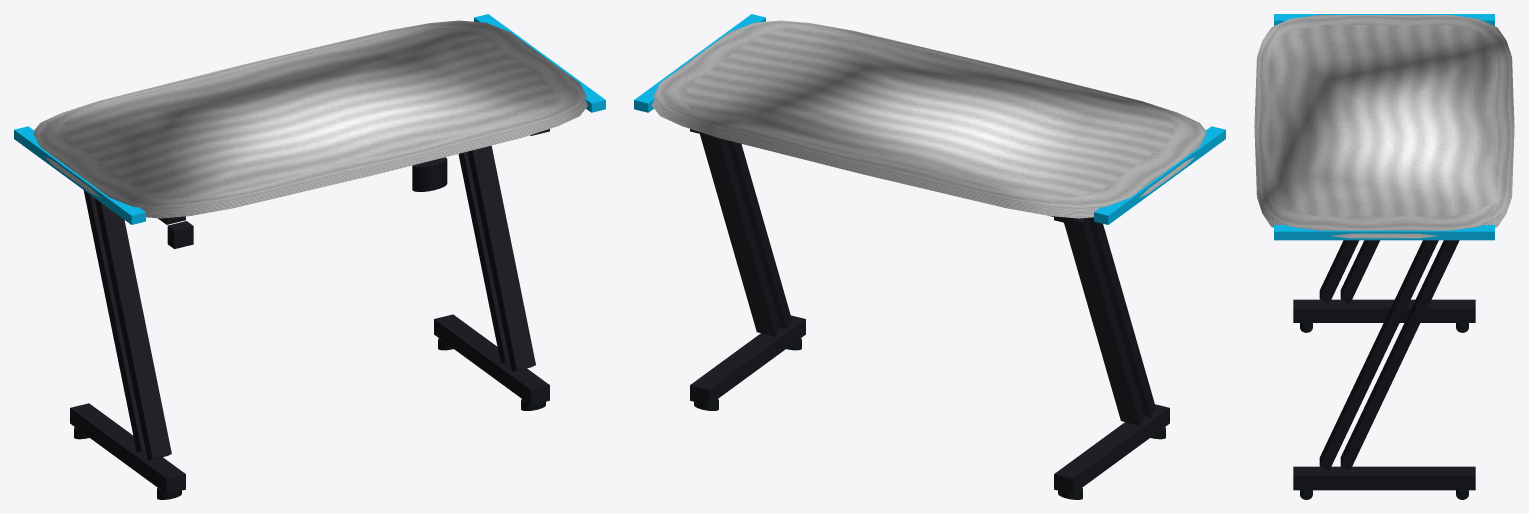
3 views of the same model, side by side, from view 1: azimuth 30°, elevation 25°; view 2: azimuth 150°, elevation 25°; view 3: azimuth 270°, elevation 25° (orthographic). The views are drawn at different scales.
Parts seen in each view (by area): view 1: 1 tabletop, 7 leg_strut_left_1, 9 leg_strut_right_1, 11 foot_bar_left, 12 foot_bar_right, 8 leg_strut_left_2, 10 leg_strut_right_2, 2 led_strip_left, 17 cup_holder, 3 led_strip_right, 18 headphone_hook; view 2: 1 tabletop, 8 leg_strut_left_2, 10 leg_strut_right_2, 12 foot_bar_right, 11 foot_bar_left, 7 leg_strut_left_1, 9 leg_strut_right_1, 2 led_strip_left, 3 led_strip_right; view 3: 1 tabletop, 12 foot_bar_right, 9 leg_strut_right_1, 10 leg_strut_right_2, 11 foot_bar_left, 3 led_strip_right, 7 leg_strut_left_1, 8 leg_strut_left_2, 2 led_strip_left.
Part boxes in pixels (left/top/right/bottom): 1 tabletop: left=33, top=20, right=587, bottom=218; 7 leg_strut_left_1: left=95, top=198, right=171, bottom=460; 9 leg_strut_right_1: left=467, top=145, right=535, bottom=371; 11 foot_bar_left: left=70, top=403, right=185, bottom=493; 12 foot_bar_right: left=434, top=314, right=549, bottom=405; 8 leg_strut_left_2: left=83, top=190, right=145, bottom=452; 10 leg_strut_right_2: left=458, top=152, right=509, bottom=363; 2 led_strip_left: left=14, top=126, right=145, bottom=224; 17 cup_holder: left=412, top=157, right=447, bottom=191; 3 led_strip_right: left=474, top=14, right=605, bottom=112; 18 headphone_hook: left=167, top=221, right=193, bottom=248; 1 tabletop: left=652, top=20, right=1206, bottom=218; 8 leg_strut_left_2: left=1064, top=218, right=1144, bottom=425; 10 leg_strut_right_2: left=700, top=134, right=780, bottom=336; 12 foot_bar_right: left=690, top=315, right=805, bottom=405; 11 foot_bar_left: left=1054, top=404, right=1169, bottom=493; 7 leg_strut_left_1: left=1088, top=217, right=1155, bottom=417; 9 leg_strut_right_1: left=727, top=140, right=791, bottom=328; 2 led_strip_left: left=1094, top=126, right=1225, bottom=224; 3 led_strip_right: left=634, top=14, right=765, bottom=112; 1 tabletop: left=1254, top=15, right=1514, bottom=238; 12 foot_bar_right: left=1293, top=466, right=1475, bottom=490; 9 leg_strut_right_1: left=1319, top=240, right=1438, bottom=471; 10 leg_strut_right_2: left=1340, top=240, right=1459, bottom=471; 11 foot_bar_left: left=1293, top=299, right=1475, bottom=322; 3 led_strip_right: left=1274, top=225, right=1494, bottom=240; 7 leg_strut_left_1: left=1319, top=240, right=1359, bottom=304; 8 leg_strut_left_2: left=1340, top=240, right=1379, bottom=304; 2 led_strip_left: left=1274, top=14, right=1494, bottom=25.
Size of the model in its own units: 1.62 by 1 by 0.81.
Materials: 5 (1 with a texture image).
